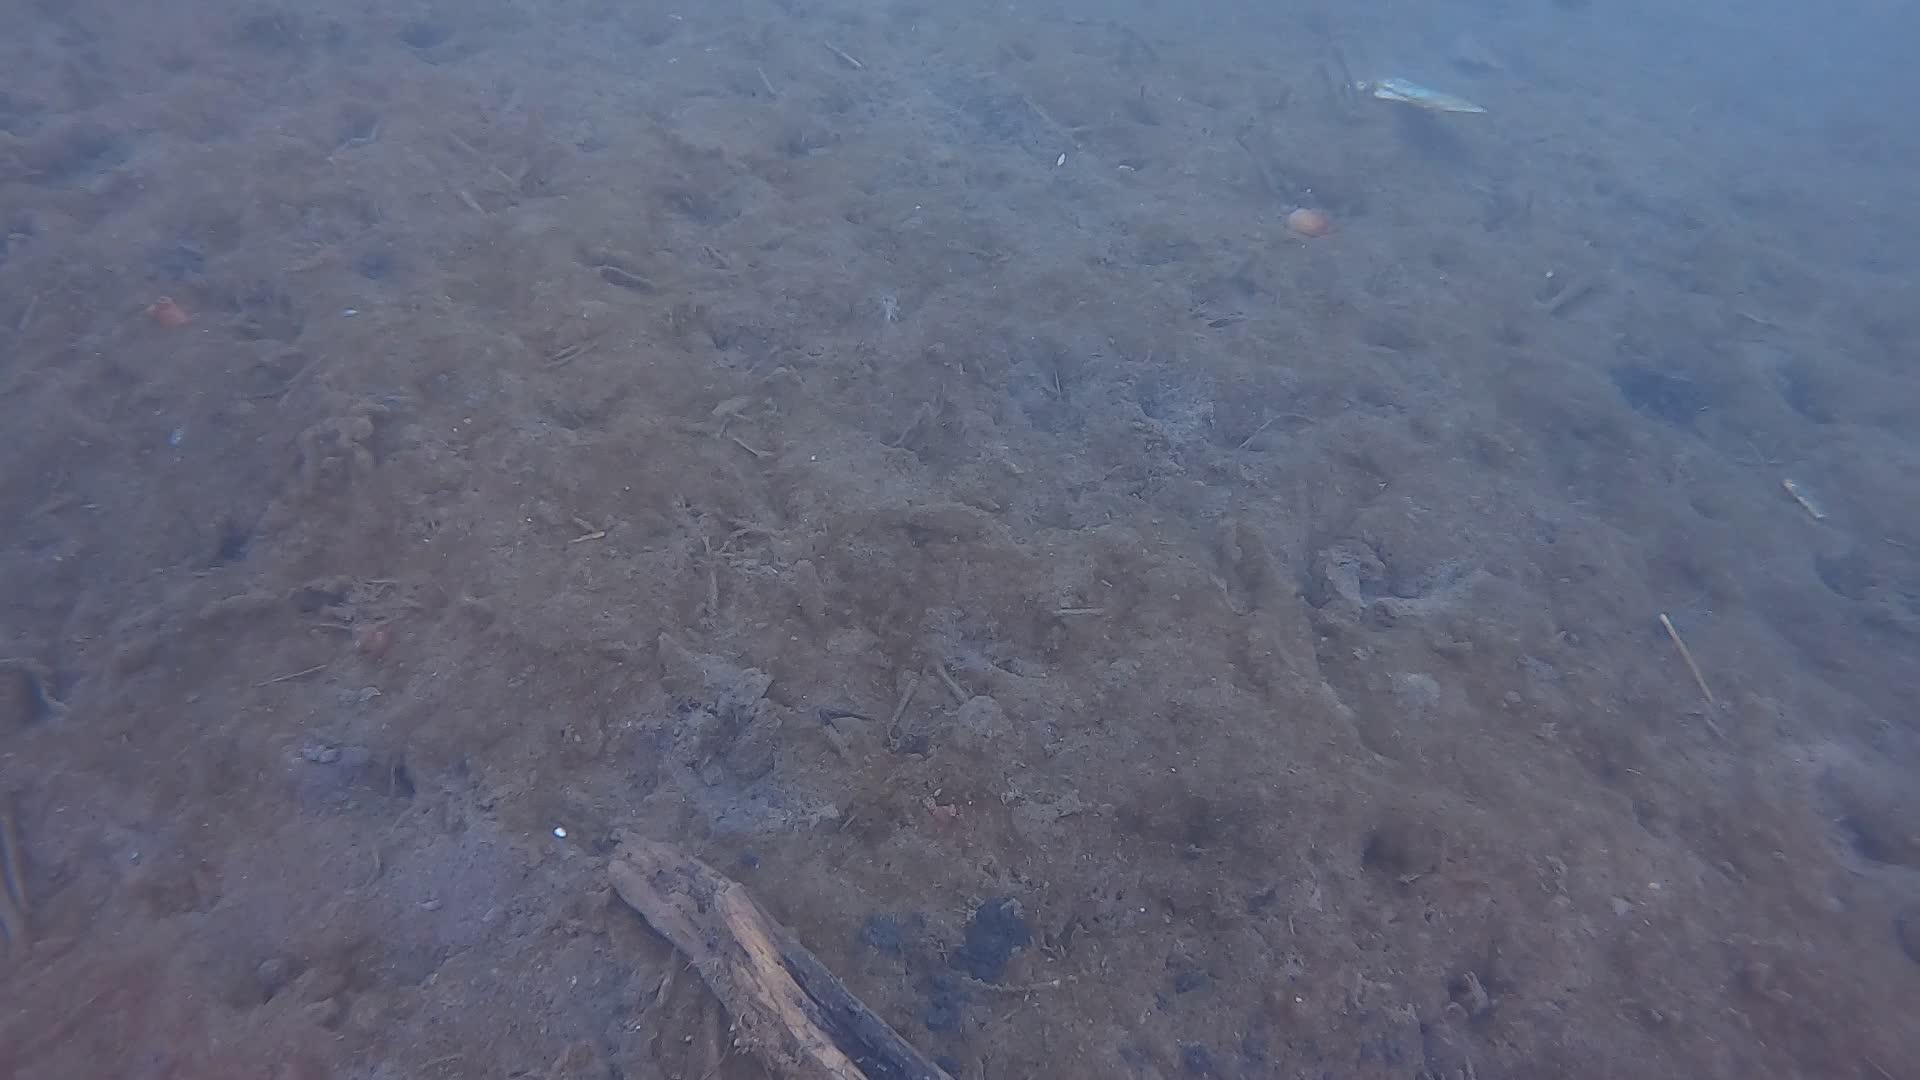wood: (603, 829, 947, 1080)
